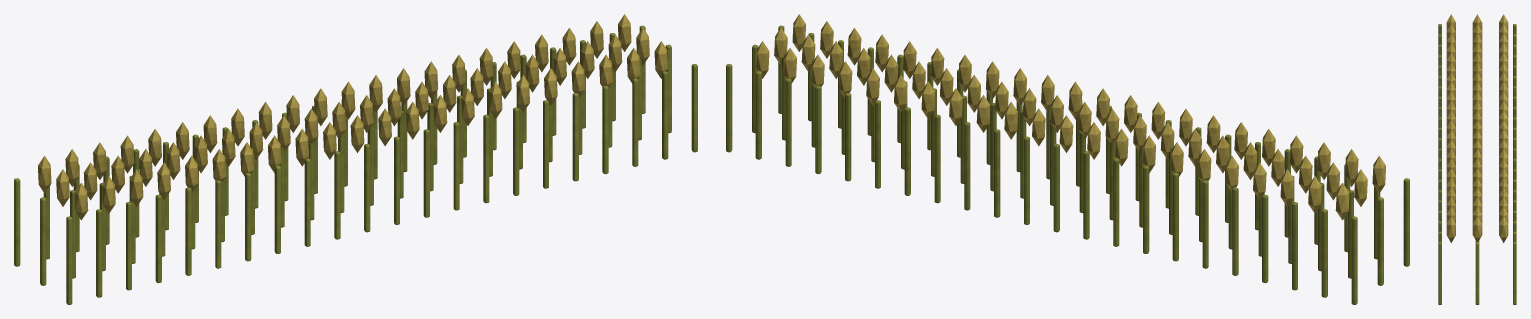
The model's file is base_crop_wheat.glb.
3 views of the same model, side by side, from view 1: azimuth 30°, elevation 25°; view 2: azimuth 150°, elevation 25°; view 3: azimuth 270°, elevation 25° (orthographic). The views are drawn at different scales.
Parts seen in each view (by area): view 1: base_crop_wheat; view 2: base_crop_wheat; view 3: base_crop_wheat.
Boxes of the visible parts, <box> form: base_crop_wheat: <box>14,14,697,304</box>; base_crop_wheat: <box>726,14,1409,304</box>; base_crop_wheat: <box>1438,14,1516,304</box>.
Size of the model in its own units: 5.29 by 0.894 by 0.8.
Materials: 2 (2 with a texture image).
